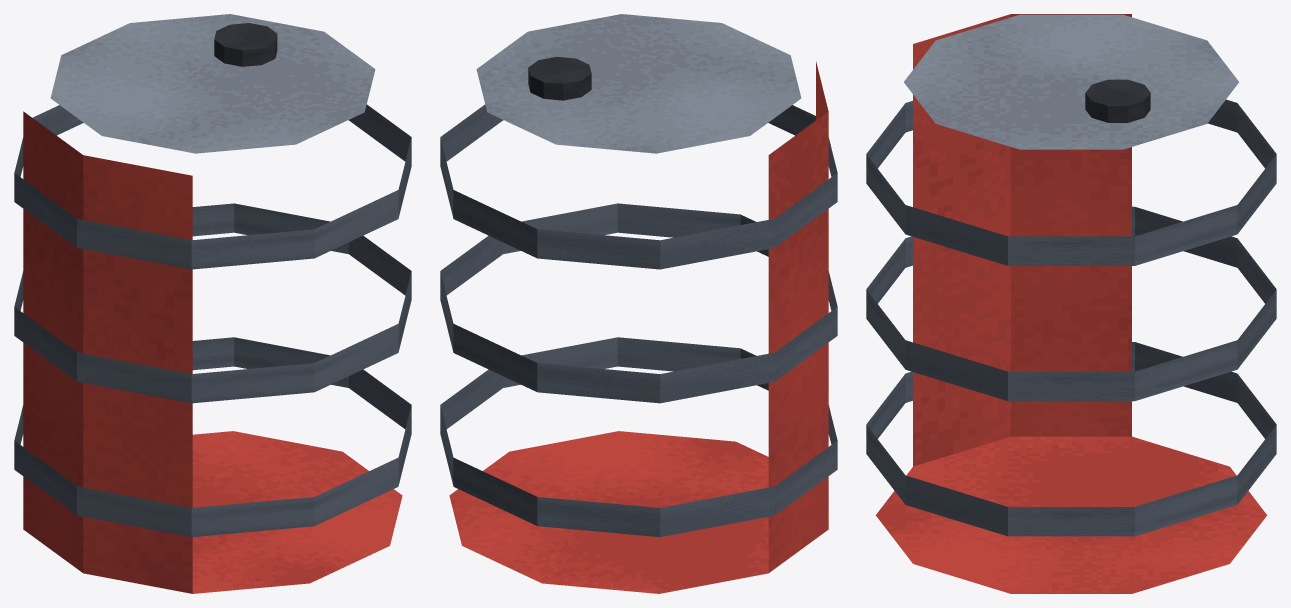
Rendered from prop_barrel.glb.
The picture shows the model from 3 angles, left to right: view 1: azimuth 30°, elevation 25°; view 2: azimuth 150°, elevation 25°; view 3: azimuth 270°, elevation 25°; orthographic projection.
Visible parts, largest first — view 1: prop_barrel; view 2: prop_barrel; view 3: prop_barrel.
Part boxes in pixels (x1,y1,x2,y2): prop_barrel: (14, 14, 411, 593); prop_barrel: (440, 14, 837, 593); prop_barrel: (866, 14, 1276, 593).
Size of the model in its own units: 0.8369 by 1.06 by 0.88.
Materials: 1 (1 with a texture image).
